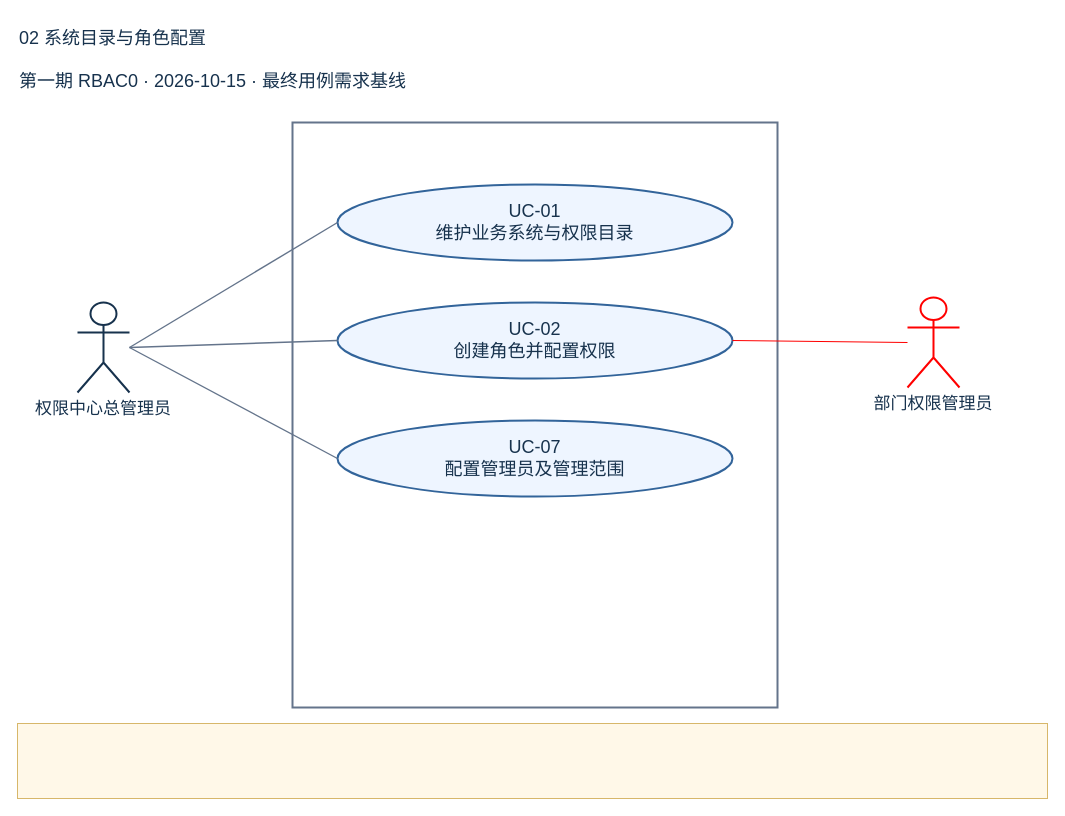
This 1065x816 diagram has some shape labels left out. Each missing label, with the box of its shape:
公司级共享角色仅总管理员维护；部门角色按指定范围维护，角色适用仍要求直接任职。 部门管理员可申请分配共享角色；权限只配置是否授予，不设计数据权限。: (16, 722, 1048, 798)
集中权限管理系统: (291, 121, 778, 708)
